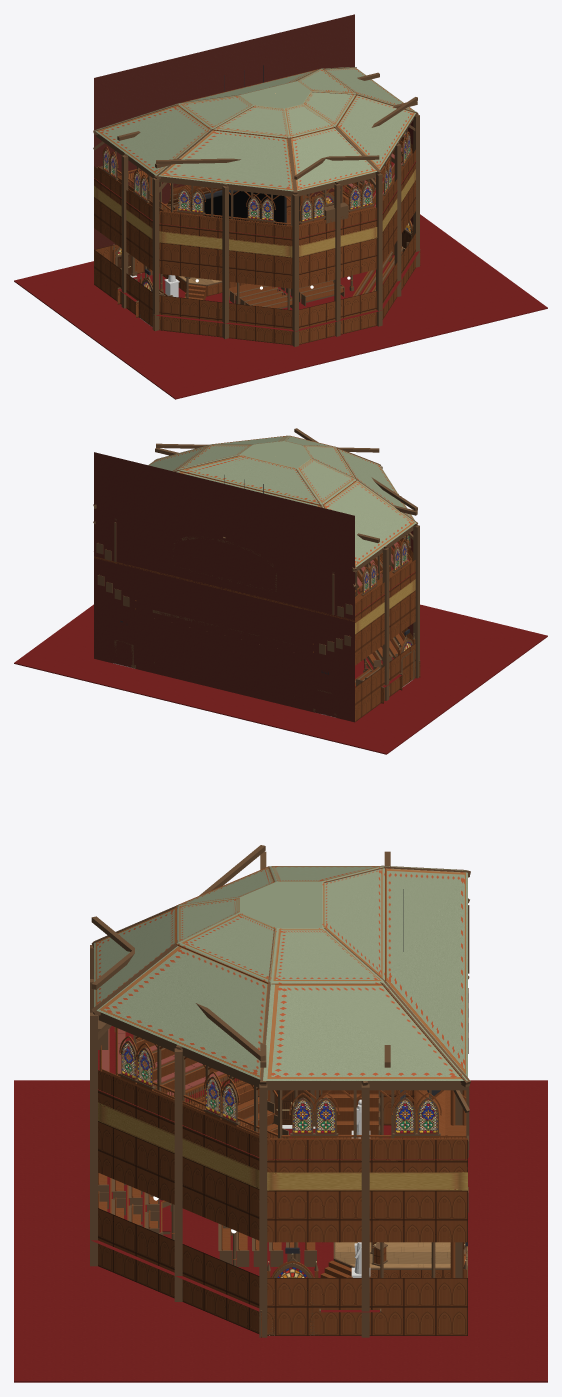
Rendered from lecture_hall_panel.glb.
3 renders of one model, top to bottom at view 1: azimuth 30°, elevation 25°; view 2: azimuth 150°, elevation 25°; view 3: azimuth 270°, elevation 25°, orthographic. The views are drawn at different scales.
Visible parts, largest first — view 1: Hall_Walls, Seating_Orchestra, Hall_Ceiling, Hall_Windows, TVScreen, Seating_Gallery, Gallery_Arcade, Balustrades, Stage; view 2: Hall_Walls, Seating_Orchestra, Hall_Ceiling, Seating_Gallery, Seating_Balcony, Hall_Windows, Gallery_Arcade; view 3: Seating_Orchestra, Hall_Walls, Hall_Ceiling, Hall_Windows, Stage, Seating_Gallery, Balustrades, Gallery_Arcade, Seating_Balcony.
Boxes of the visible parts, box(x1,y1,x2,y2) form: Hall_Walls: box(94, 14, 419, 346); Seating_Orchestra: box(14, 214, 547, 399); Hall_Ceiling: box(93, 67, 418, 194); Hall_Windows: box(102, 129, 411, 224); TVScreen: box(204, 191, 284, 224); Seating_Gallery: box(94, 141, 415, 238); Gallery_Arcade: box(114, 150, 391, 225); Balustrades: box(117, 157, 390, 309); Stage: box(162, 274, 247, 300); Hall_Walls: box(94, 452, 419, 722); Seating_Orchestra: box(14, 604, 547, 754); Hall_Ceiling: box(93, 428, 417, 587); Seating_Gallery: box(94, 540, 415, 621); Seating_Balcony: box(97, 556, 382, 654); Hall_Windows: box(361, 534, 411, 596); Gallery_Arcade: box(114, 518, 391, 615); Seating_Orchestra: box(14, 1080, 547, 1382); Hall_Walls: box(90, 945, 467, 1337); Hall_Ceiling: box(91, 845, 470, 1112); Hall_Windows: box(119, 1036, 441, 1137); Stage: box(320, 1242, 467, 1277); Seating_Gallery: box(98, 1026, 468, 1169); Balustrades: box(136, 1074, 466, 1277); Gallery_Arcade: box(133, 905, 469, 1149); Seating_Balcony: box(136, 988, 468, 1212).
Size of the model in its own units: 40 by 21.3 by 30.
24 materials, 14 textured.
